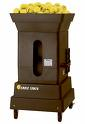tennis ball: (34, 6, 40, 12)
